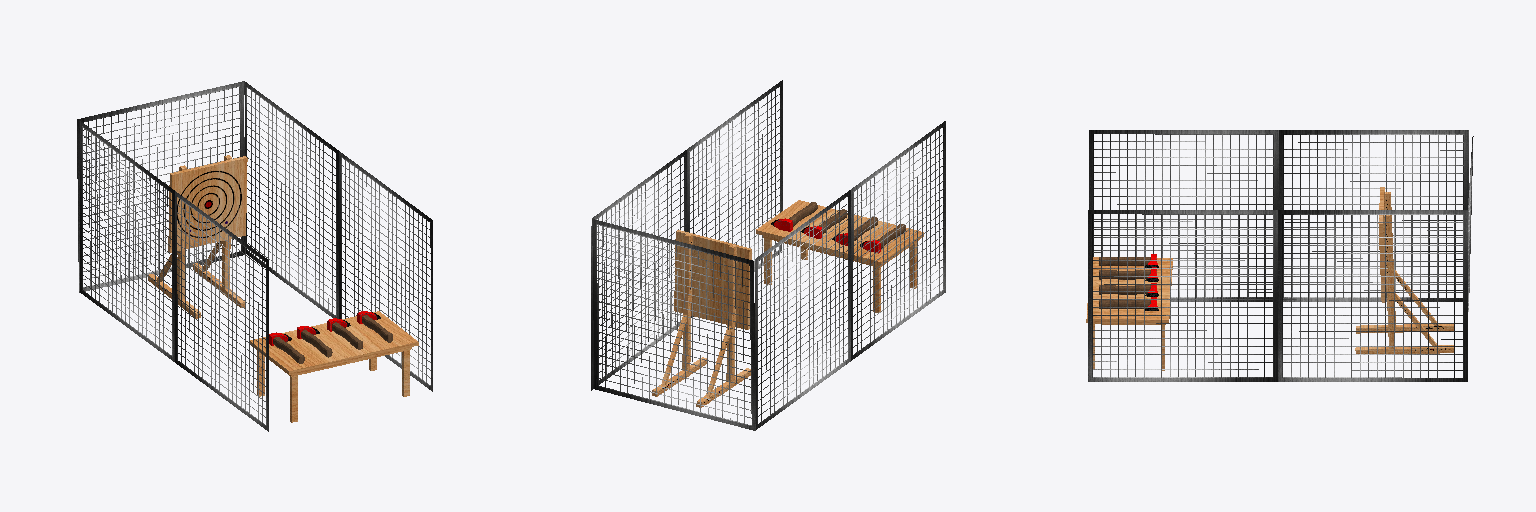
The picture shows the model from 3 angles: view 1: azimuth 30°, elevation 25°; view 2: azimuth 150°, elevation 25°; view 3: azimuth 270°, elevation 25°; orthographic projection.
Parts seen in each view (by area): view 1: reja, TiroConHacha, mesa; view 2: reja, TiroConHacha, mesa; view 3: reja, TiroConHacha, mesa.
Part boxes in pixels (x1,y1,x2,y2): reja: (77, 81, 432, 431); TiroConHacha: (148, 155, 247, 318); mesa: (250, 311, 418, 422); reja: (591, 80, 945, 430); TiroConHacha: (652, 230, 751, 407); mesa: (756, 200, 923, 312); reja: (1088, 130, 1473, 381); TiroConHacha: (1355, 187, 1453, 353); mesa: (1086, 257, 1172, 370).
Size of the model in its own units: 1.15 by 1.14 by 2.32.
5 materials, 4 textured.